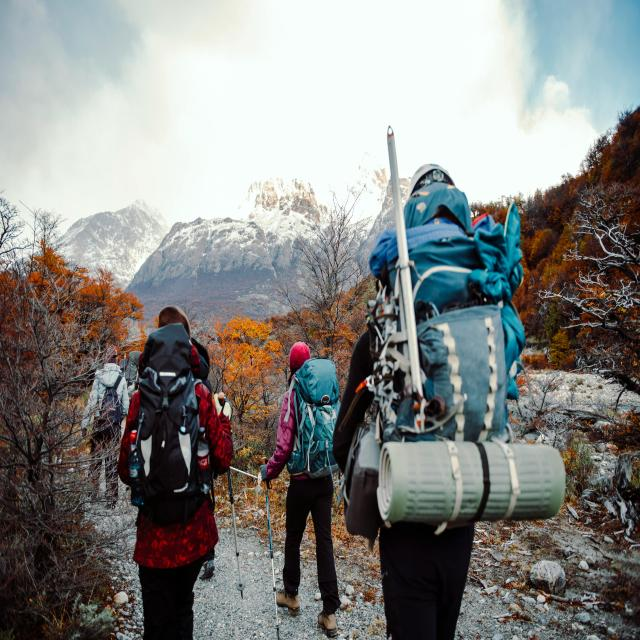backpack: (129, 327, 214, 526), (288, 358, 343, 480), (97, 372, 125, 440)
